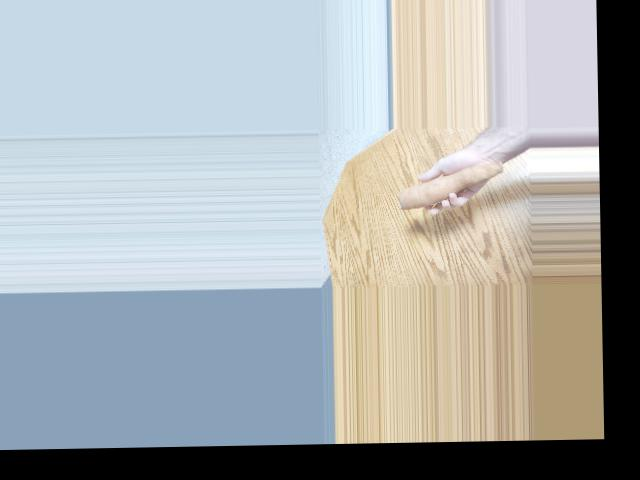sweet_potato: (397, 158, 502, 212)
